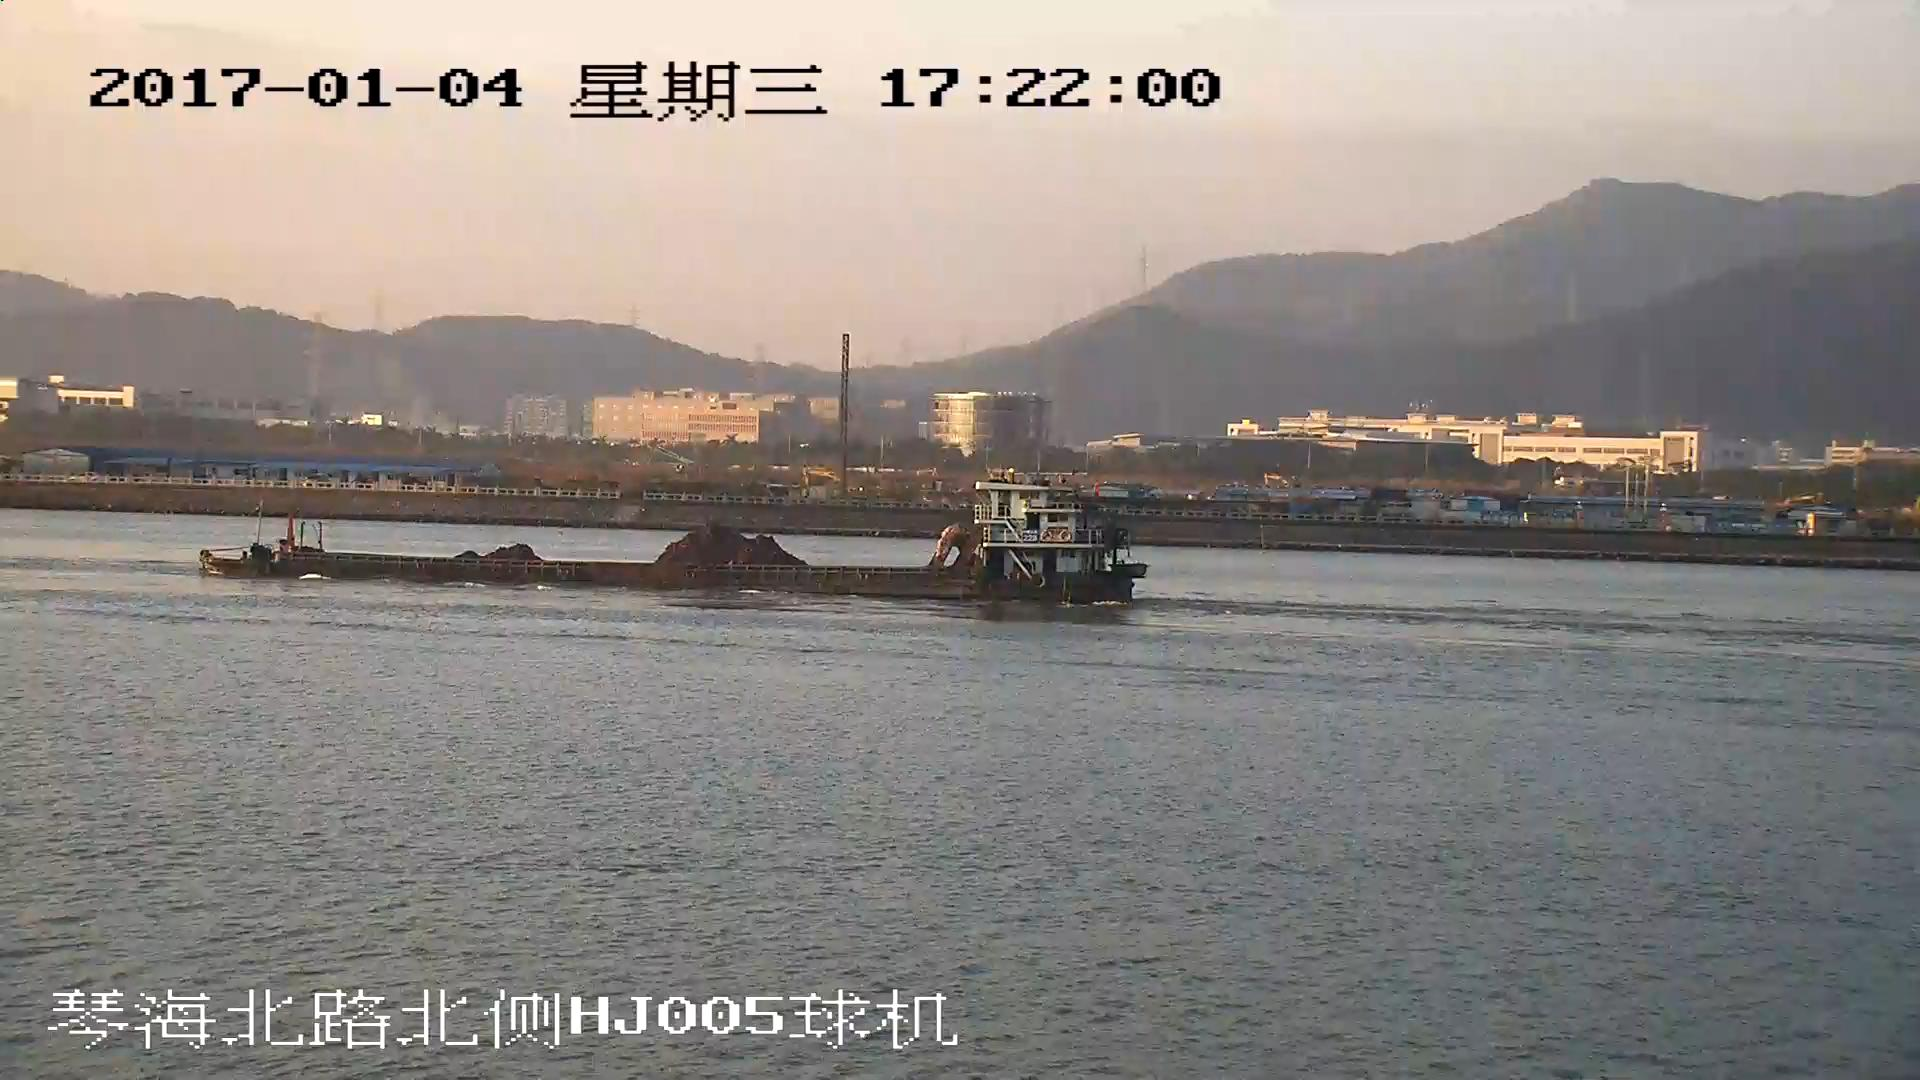ore carrier: (203, 483, 1140, 606)
